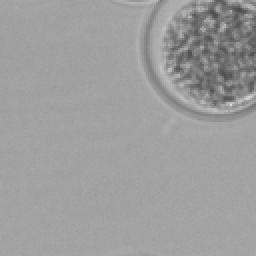picoshell: (140, 0, 254, 120)
